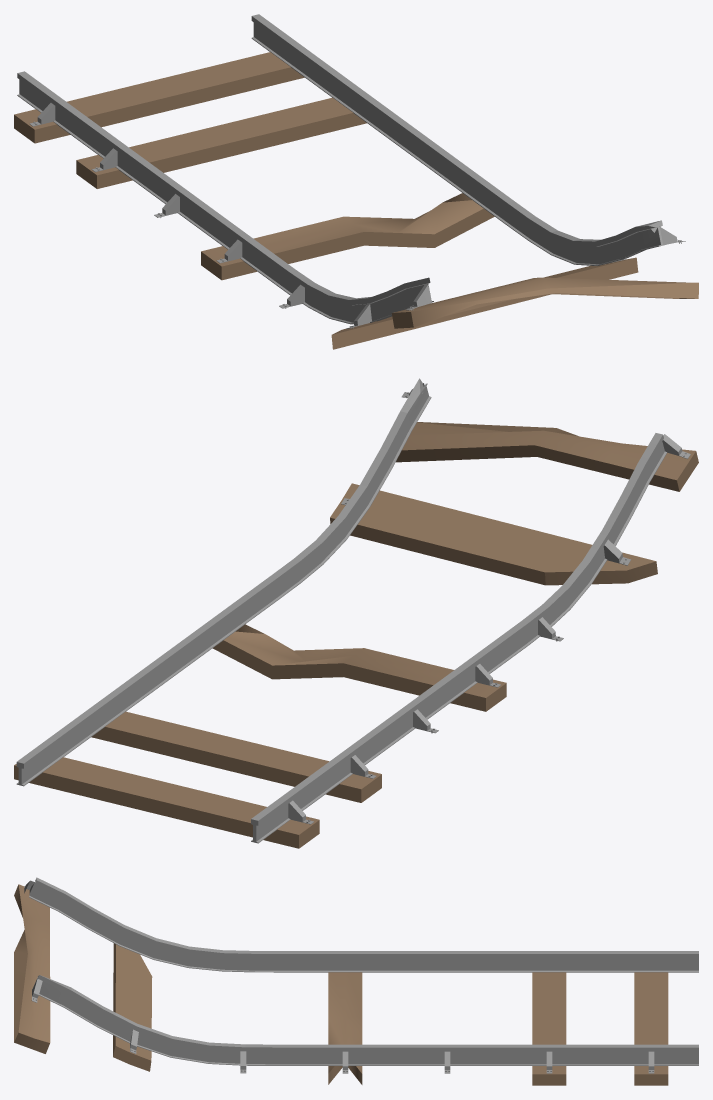
File: trilho reto quebrado cima.fbx
3 renders of one model, top to bottom at view 1: azimuth 30°, elevation 25°; view 2: azimuth 150°, elevation 25°; view 3: azimuth 270°, elevation 25°, orthographic. The views are drawn at different scales.
Parts seen in each view (by area): view 1: Cube.004; view 2: Cube.004; view 3: Cube.004.
Part boxes in pixels (x1=…): Cube.004: x1=14, y1=14, x2=698, y2=349; Cube.004: x1=14, y1=378, x2=698, y2=848; Cube.004: x1=14, y1=877, x2=698, y2=1085.
Size of the model in its own units: 251 by 114 by 591.
